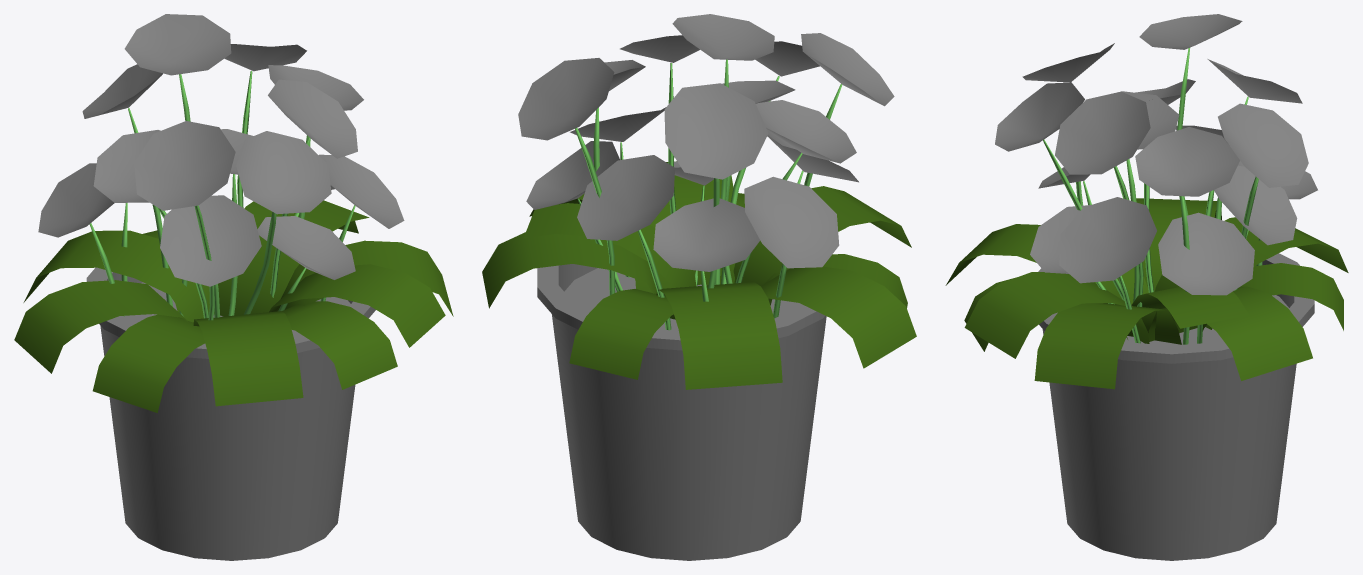
The model's file is SM_flowerpot_07.fbx.
3 renders of one model, left to right at view 1: azimuth 30°, elevation 25°; view 2: azimuth 150°, elevation 25°; view 3: azimuth 270°, elevation 25°, orthographic. The views are drawn at different scales.
Parts seen in each view (by area): view 1: Cylinder101; view 2: Cylinder101; view 3: Cylinder101.
Boxes of the visible parts, left/top/right/bottom form: Cylinder101: left=14, top=14, right=453, bottom=560; Cylinder101: left=482, top=14, right=916, bottom=560; Cylinder101: left=945, top=14, right=1348, bottom=560.
Size of the model in its own units: 18.02 by 21.97 by 16.83.
